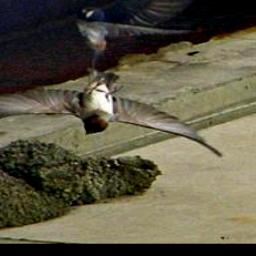Swallow: (0, 65, 228, 160)
